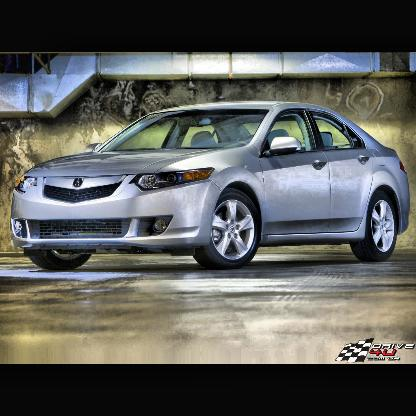Acura TSX Sedan 2012: (12, 101, 411, 272)
